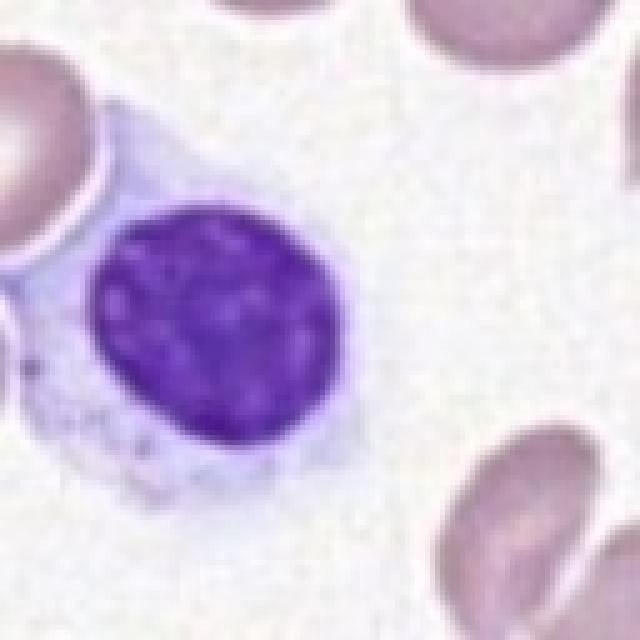lympho: (10, 83, 384, 510)
